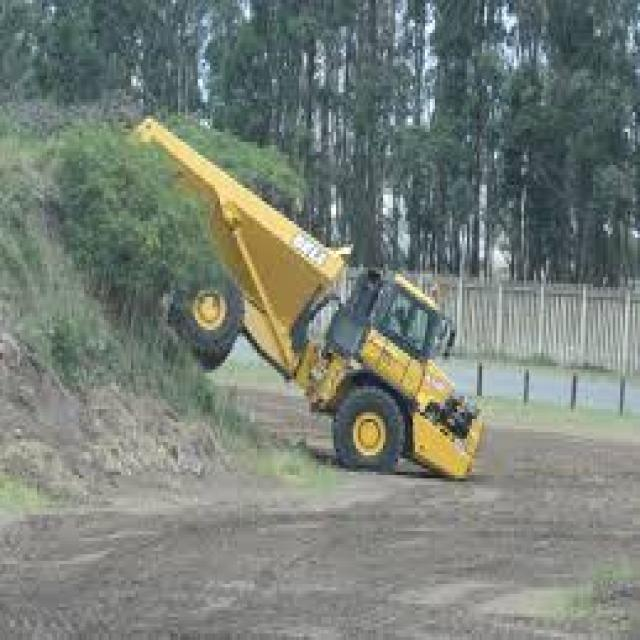dump_truck: (114, 89, 566, 544)
